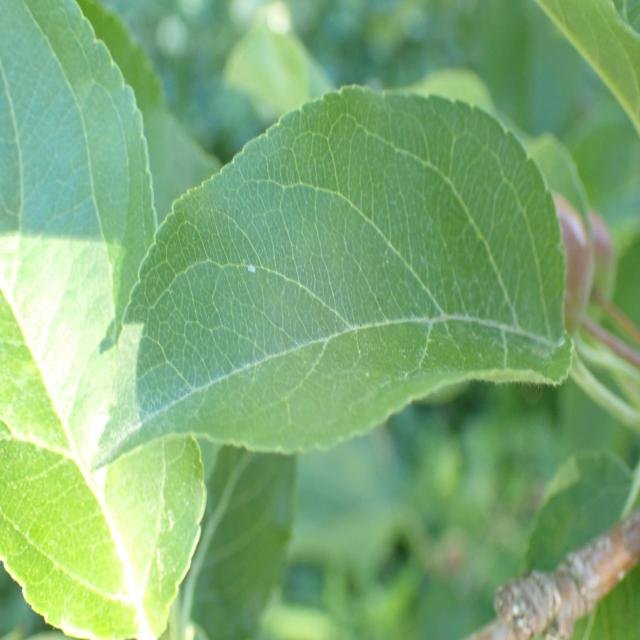healthy: (90, 83, 572, 457), (0, 0, 206, 640)
